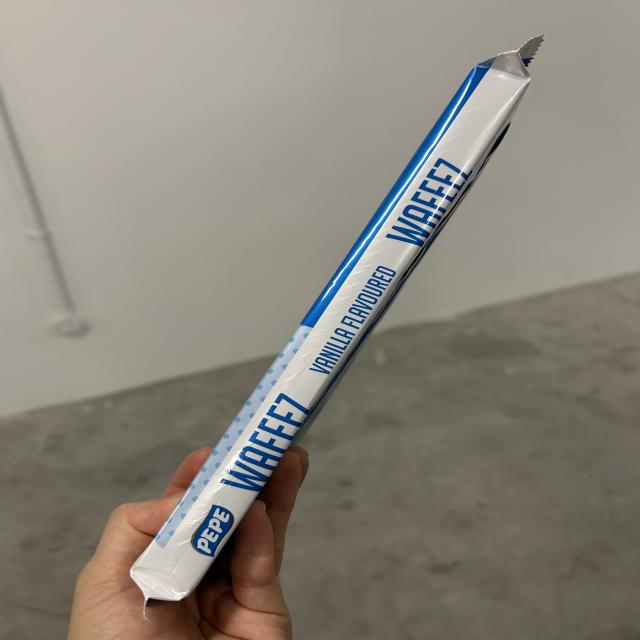object_name: (188, 62, 510, 599)
